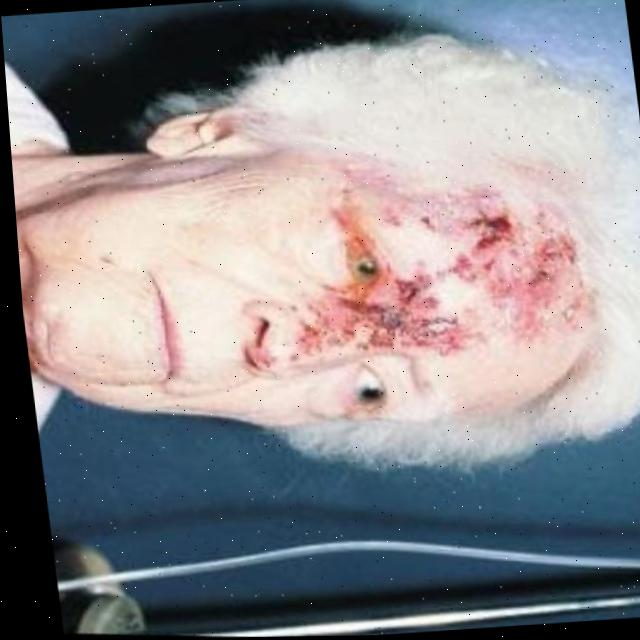Shingles: (384, 182, 574, 292), (292, 292, 584, 357)
